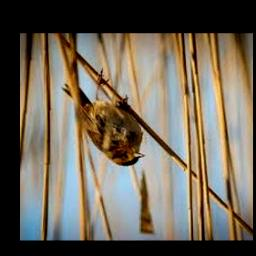Sparrow: (62, 70, 145, 167)
